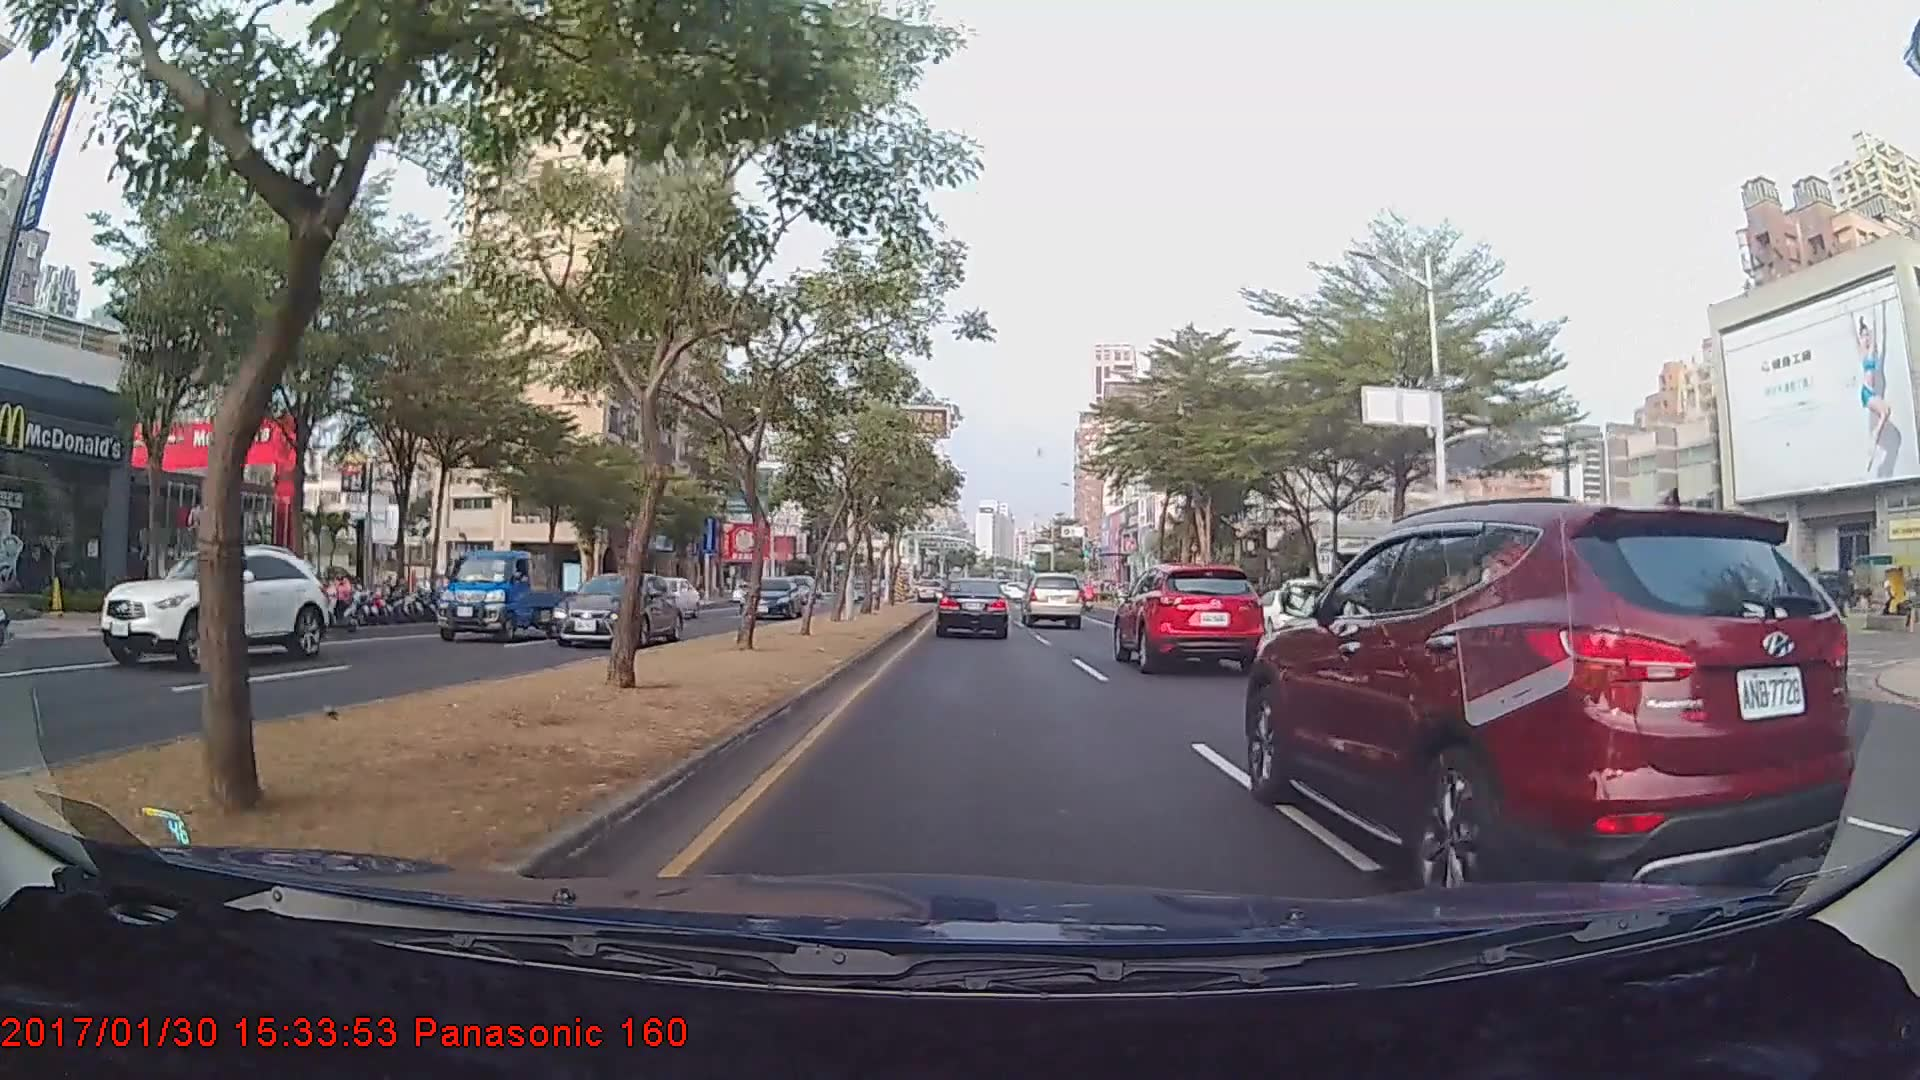vehicle: (1242, 496, 1851, 928), (94, 542, 326, 670), (1112, 564, 1266, 676), (431, 547, 574, 641), (553, 568, 682, 644), (935, 576, 1010, 640), (1023, 571, 1083, 629), (633, 574, 700, 618), (740, 574, 804, 620)
